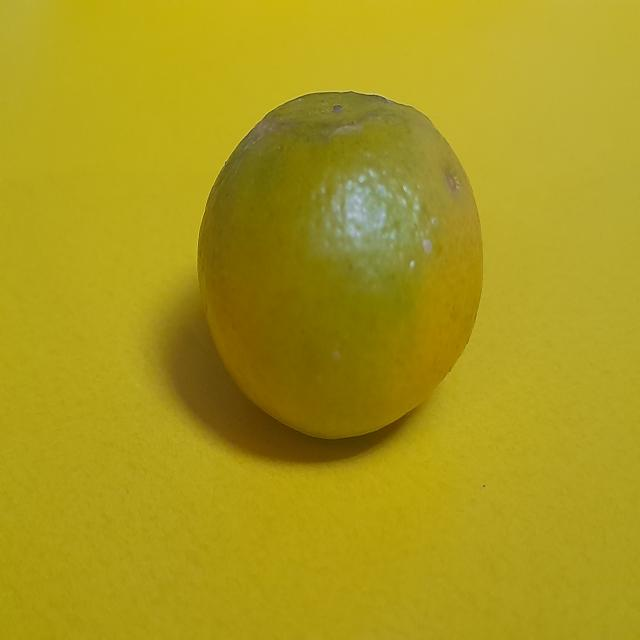greening: (195, 70, 485, 433)
